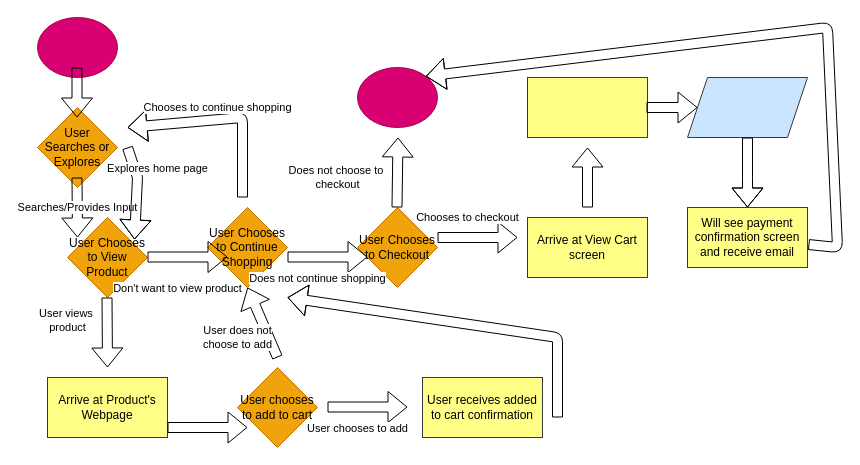
The diagram is 860 pixels wide and 465 high, and some of its shapes have lost their labels. Each missing label, with the centre of its shape:
Arrive at View Payment screen: point (587, 107)
User Enters Website: point (77, 47)
User Exits Website: point (397, 97)
User inputs payment information: point (747, 107)
